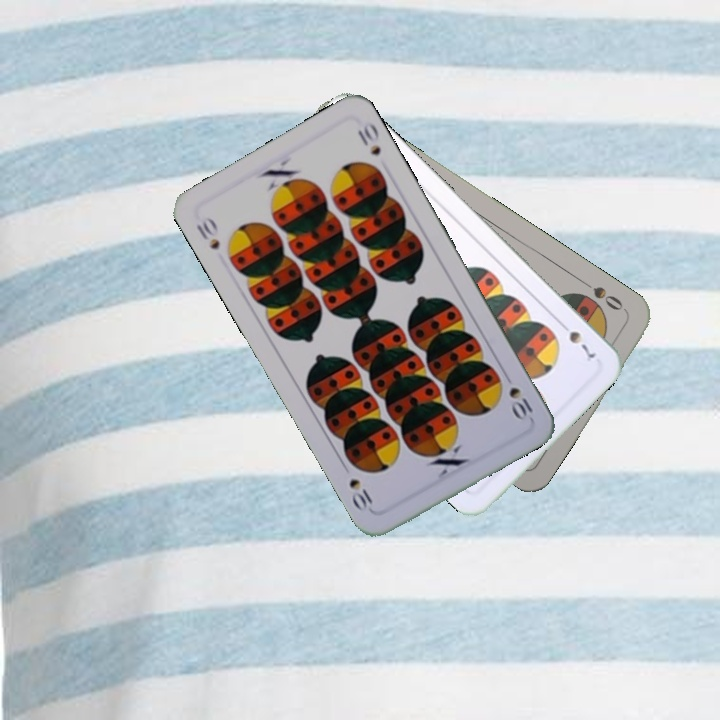S10: (499, 368, 539, 424), (192, 212, 223, 252)
S7: (554, 316, 598, 364)
SO: (578, 277, 630, 316)
